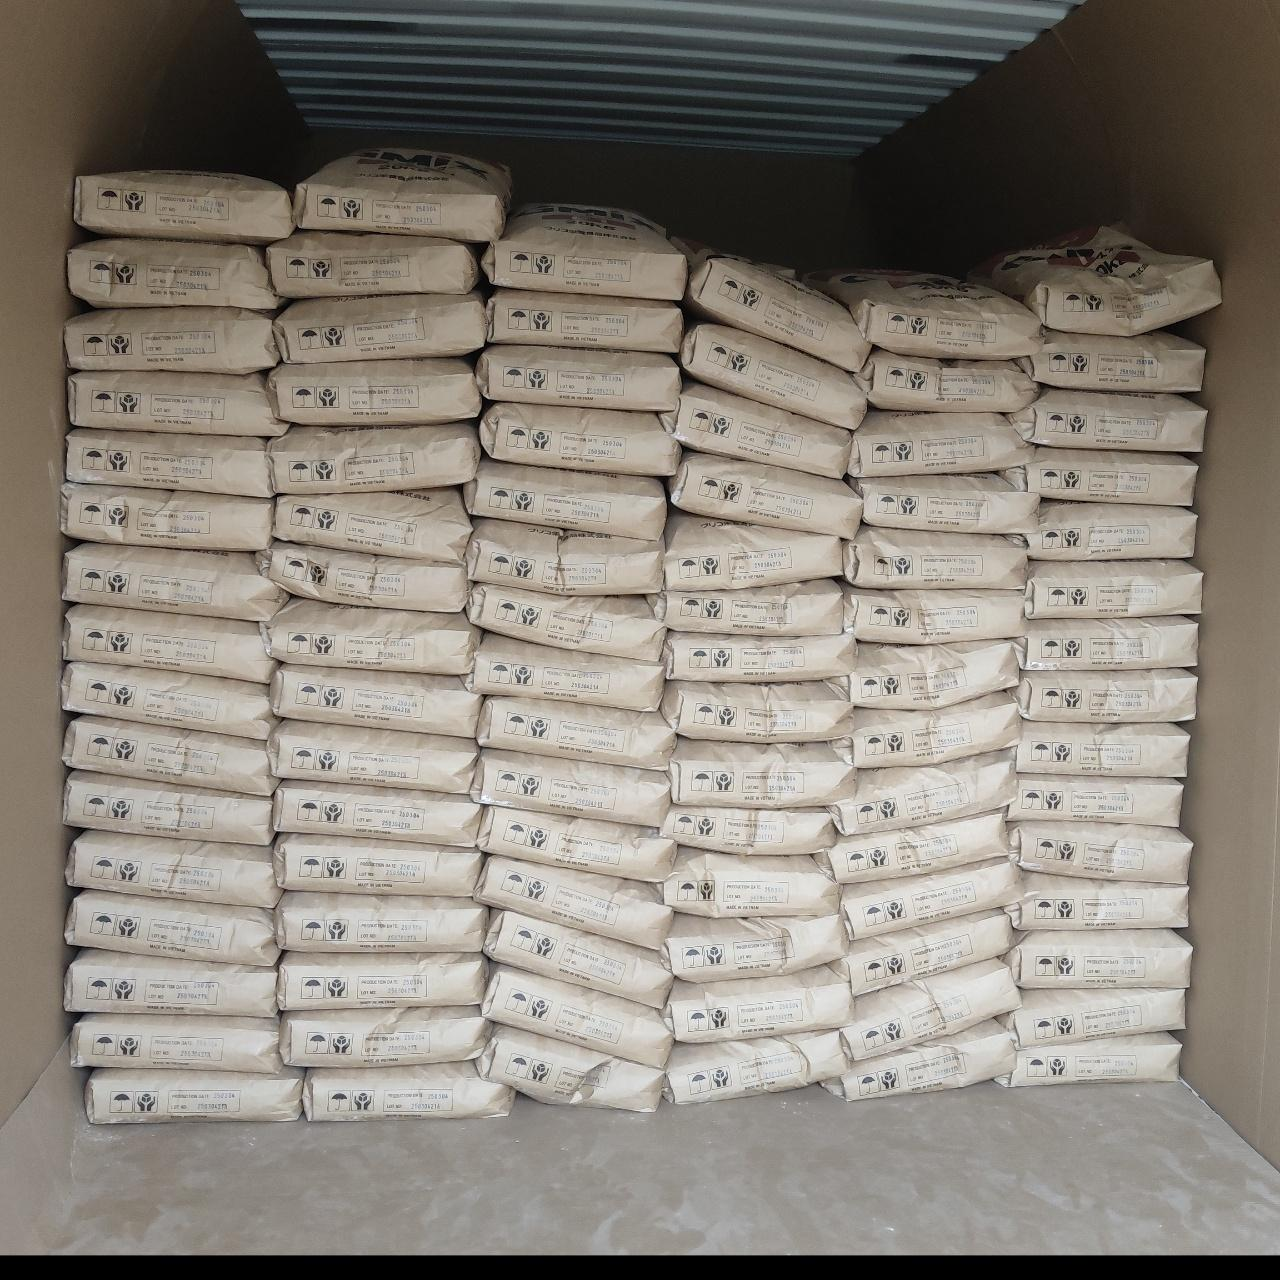sack: (971, 225, 1220, 334), (686, 256, 869, 372), (803, 271, 1041, 359), (294, 147, 511, 243), (482, 203, 687, 301), (680, 324, 866, 429), (482, 966, 672, 1065), (484, 908, 673, 1008), (661, 381, 851, 477), (475, 856, 670, 948), (840, 959, 1020, 1060), (63, 543, 290, 620), (260, 598, 481, 674), (62, 717, 275, 796), (668, 452, 862, 538), (63, 605, 275, 682), (66, 831, 280, 907), (62, 662, 274, 738), (464, 459, 665, 539), (821, 1017, 1015, 1099), (830, 908, 1014, 995), (477, 1024, 663, 1110), (66, 890, 278, 965), (471, 748, 670, 828), (74, 171, 294, 243), (68, 237, 284, 309), (270, 663, 481, 737), (666, 960, 853, 1042), (64, 770, 272, 844), (268, 720, 477, 792), (467, 518, 662, 595), (832, 751, 1014, 835), (469, 632, 663, 709), (268, 423, 481, 493), (256, 542, 467, 612), (477, 806, 674, 881), (275, 292, 485, 362), (481, 402, 680, 476), (61, 481, 273, 550), (272, 488, 470, 561), (830, 692, 1020, 768), (469, 583, 661, 658), (68, 370, 287, 436), (840, 858, 1021, 938), (66, 428, 273, 497), (477, 697, 676, 769), (268, 230, 477, 298), (64, 949, 277, 1016), (663, 511, 843, 590), (272, 781, 481, 847), (64, 308, 279, 373), (656, 845, 840, 920), (268, 359, 481, 423), (477, 345, 680, 411), (821, 811, 1008, 883), (659, 913, 847, 982), (667, 1032, 847, 1103), (670, 738, 855, 808), (486, 288, 682, 353), (275, 891, 486, 951), (305, 1061, 513, 1121), (273, 836, 482, 896), (829, 642, 1019, 708), (847, 410, 1034, 477), (1007, 388, 1207, 450), (72, 1014, 281, 1073), (277, 951, 486, 1009), (86, 1067, 301, 1123), (1017, 327, 1204, 392), (282, 1007, 486, 1065), (999, 447, 1197, 505), (661, 681, 851, 741), (645, 579, 842, 636), (856, 350, 1037, 411), (1009, 821, 1191, 881), (845, 527, 1029, 587), (851, 475, 1039, 533), (1000, 989, 1183, 1047), (1008, 930, 1191, 987), (843, 586, 1024, 644), (1023, 501, 1197, 560), (1006, 873, 1187, 930), (996, 1032, 1180, 1087), (1024, 561, 1201, 618), (667, 629, 855, 682), (1015, 617, 1197, 670), (1014, 669, 1196, 722), (1017, 721, 1187, 777), (1007, 775, 1182, 825), (662, 804, 833, 853)
